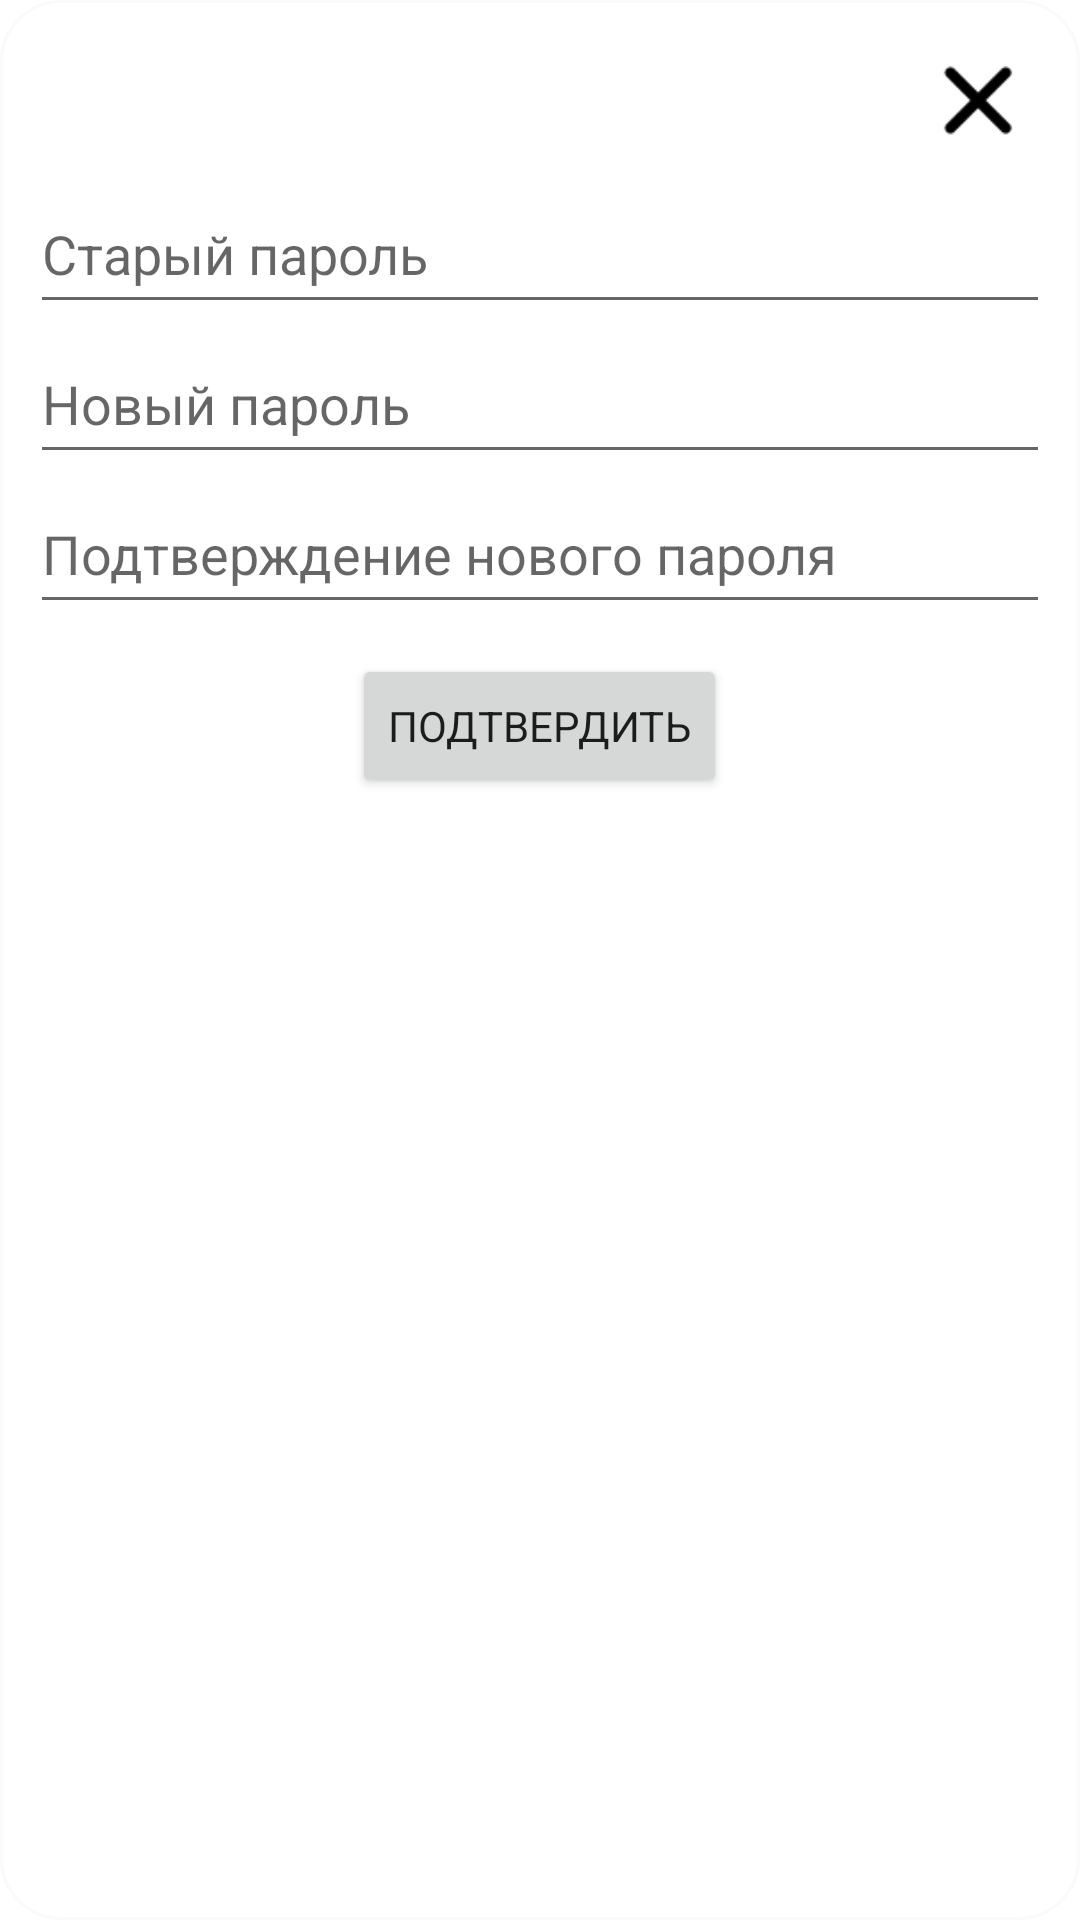

Where icons sit on this 1080px x 1920px app screen, as bbox=(x1, y1, x2, y2):
cancel: bbox=(944, 66, 1012, 135)
